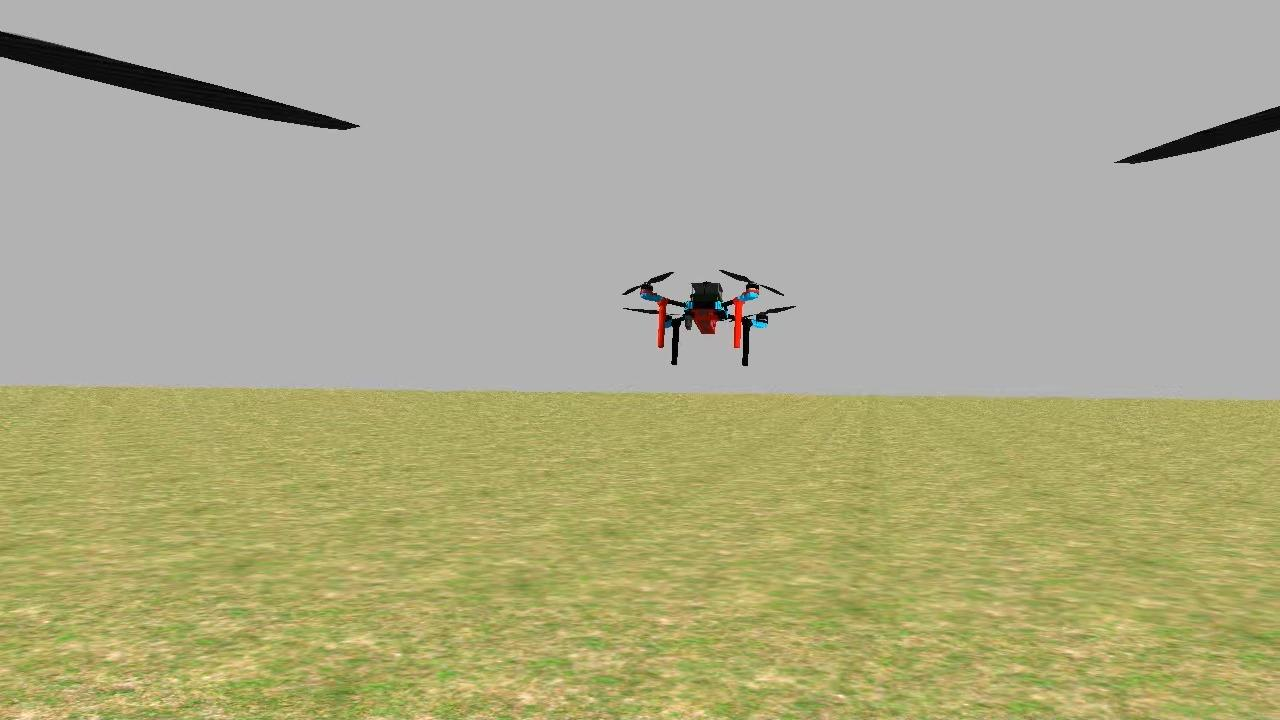UAV: (622, 255, 788, 376)
